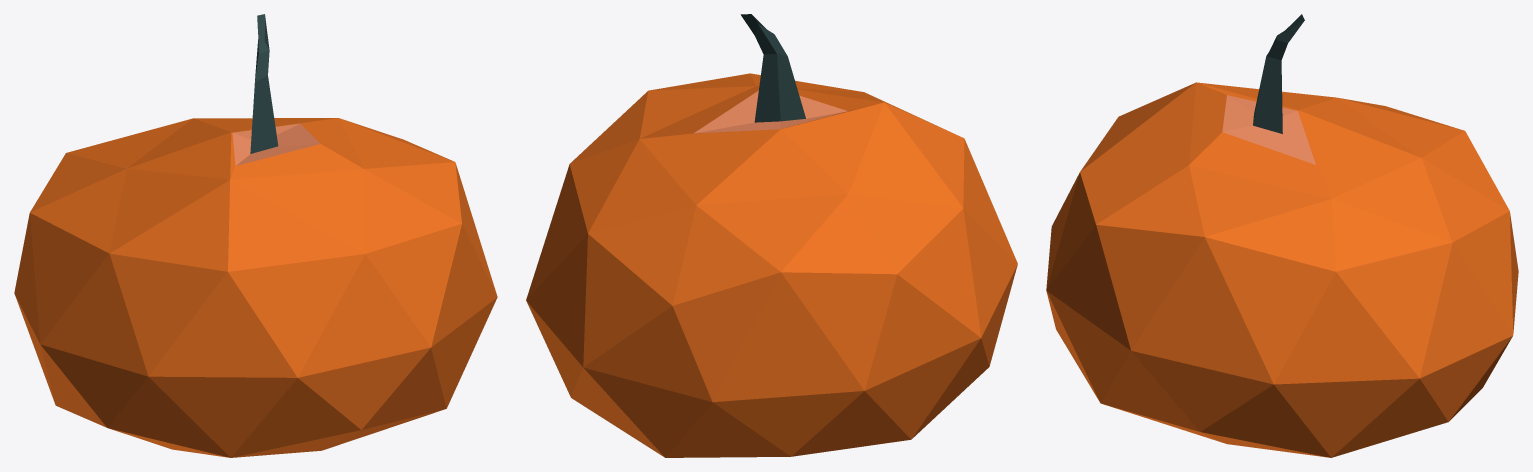
The model's file is PumpkinSolo.glb.
The picture shows the model from 3 angles, left to right: view 1: azimuth 30°, elevation 25°; view 2: azimuth 150°, elevation 25°; view 3: azimuth 270°, elevation 25°; orthographic projection.
Parts seen in each view (by area): view 1: Pumpkin.001; view 2: Pumpkin.001; view 3: Pumpkin.001.
Boxes of the visible parts, left/top/right/bottom form: Pumpkin.001: left=14, top=14, right=497, bottom=457; Pumpkin.001: left=526, top=14, right=1017, bottom=457; Pumpkin.001: left=1046, top=14, right=1518, bottom=457.
Bounding box in the file's own units: 1.15 × 1.02 × 1.1.
